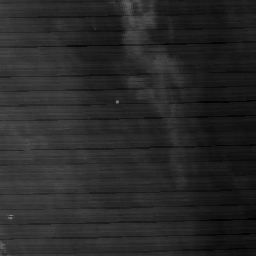Target: (115, 99, 120, 104)
